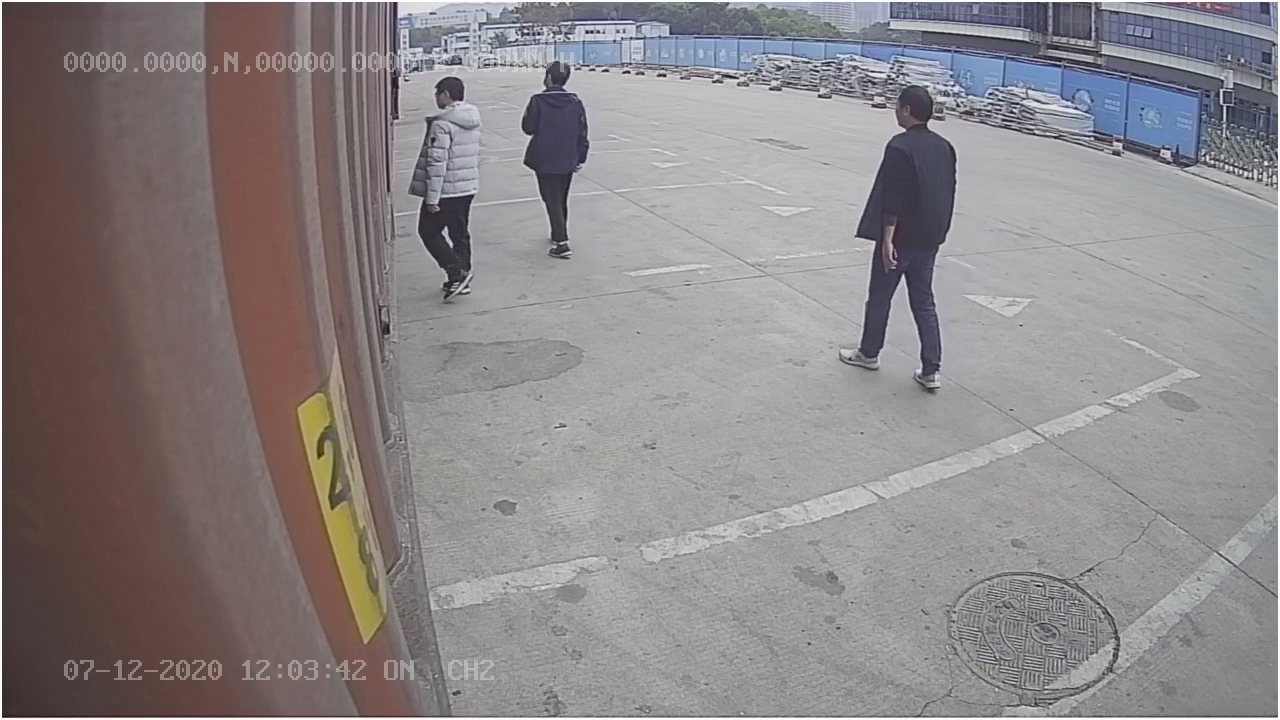person: (838, 79, 958, 391), (410, 68, 490, 304)
